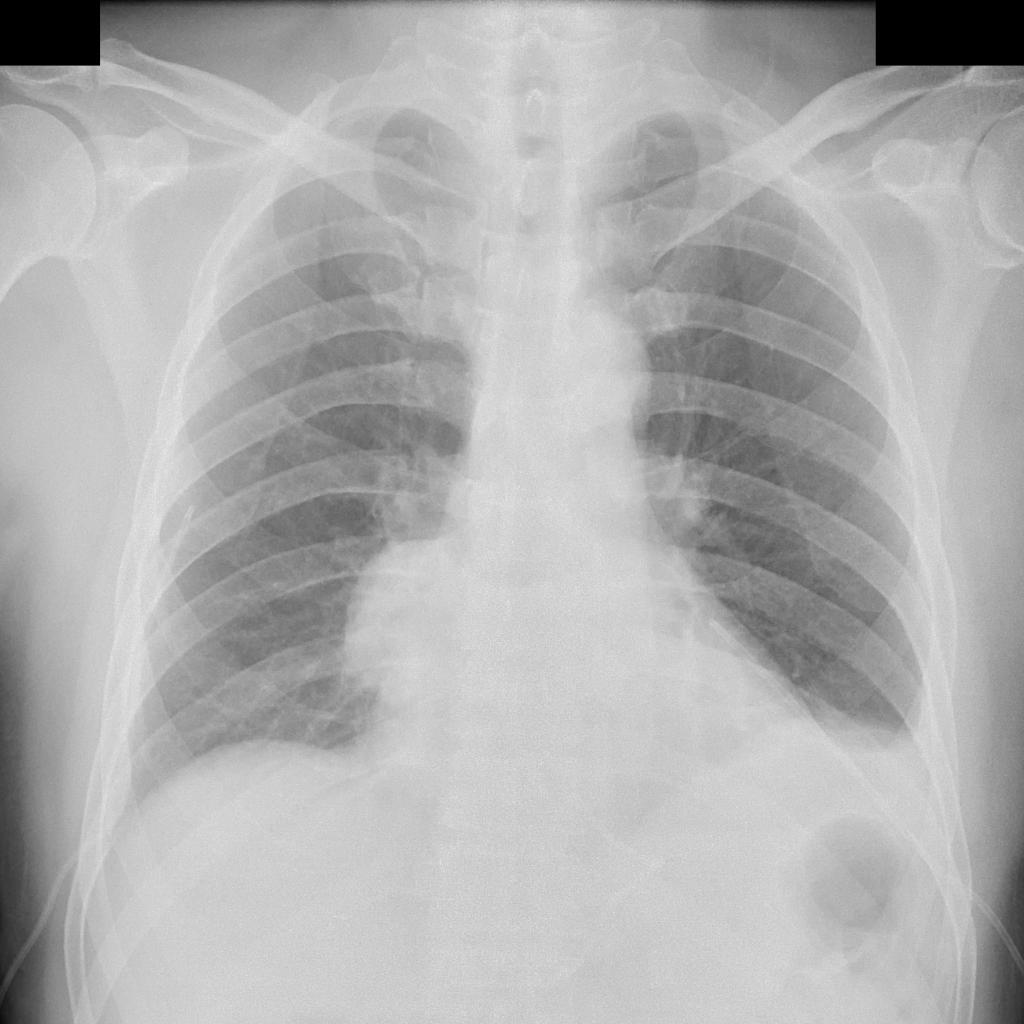Nodule: (344, 539, 486, 703)
